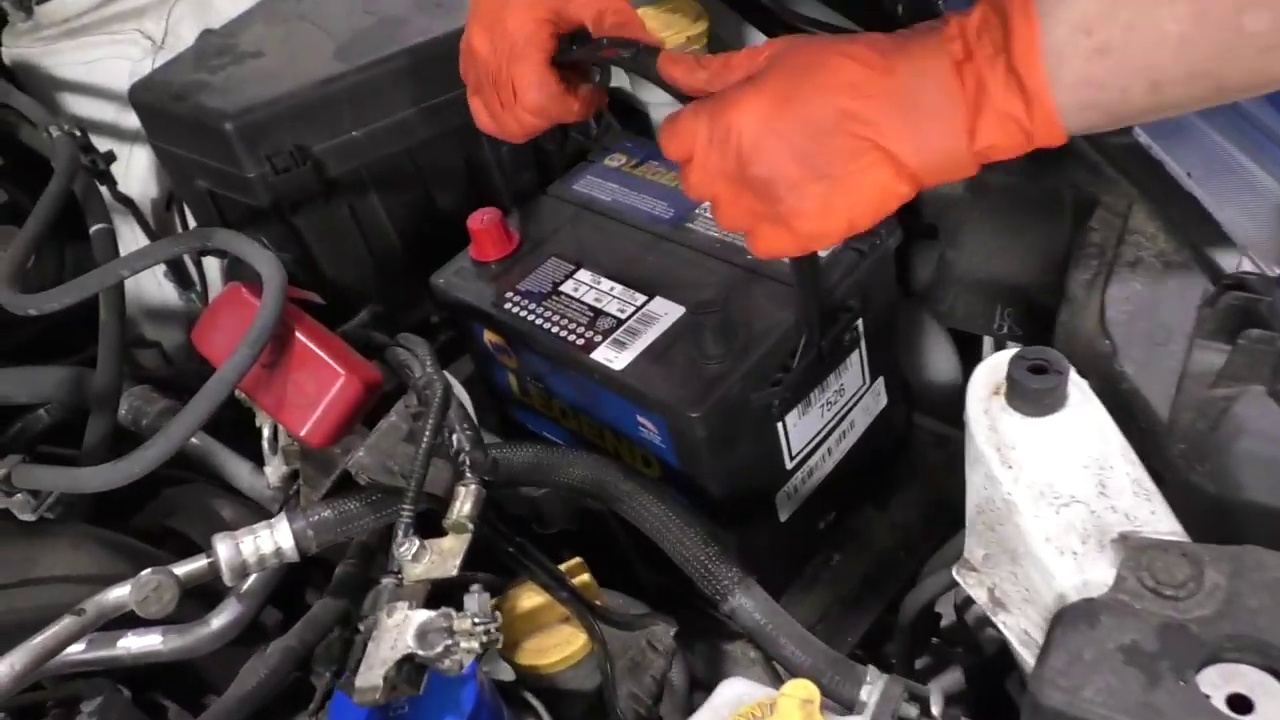battery: (441, 152, 867, 400)
